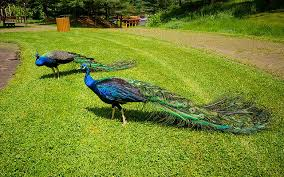Walking: (79, 64, 275, 146), (26, 46, 76, 81)
